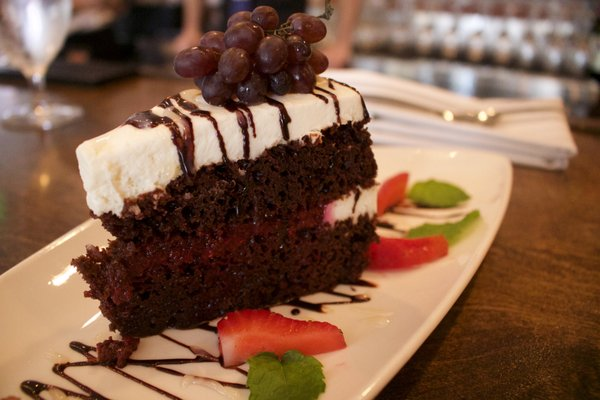curry: (1, 28, 554, 385)
sandwich: (0, 0, 86, 129)
sushi: (69, 40, 382, 342)
